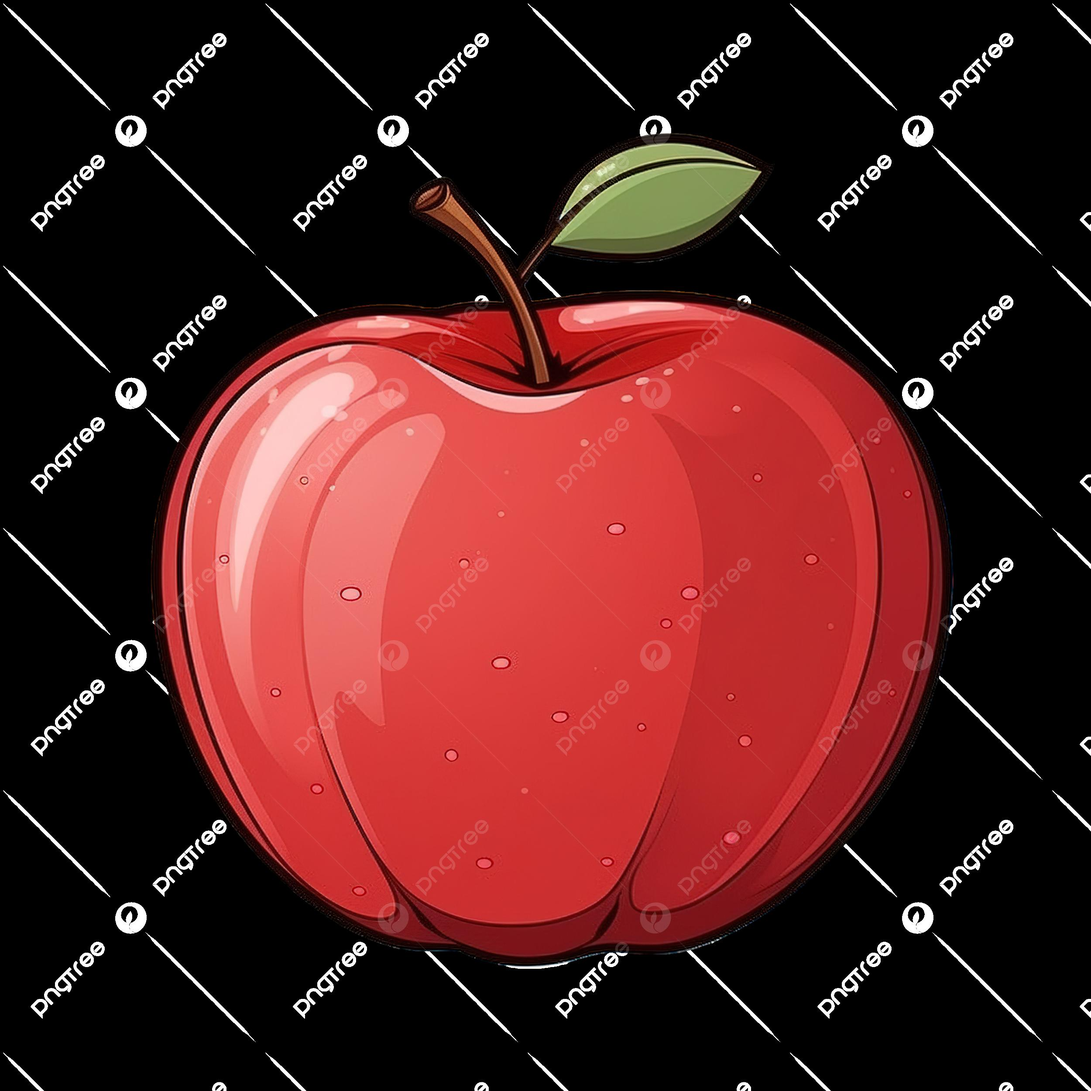apples: (136, 128, 962, 1004)
